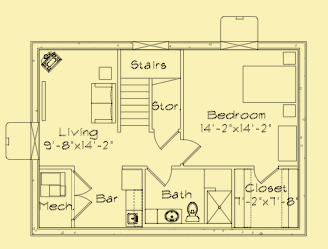bed: (239, 50, 297, 121)
door: (69, 168, 95, 222), (152, 127, 183, 152), (250, 161, 283, 184), (143, 163, 172, 189), (178, 135, 203, 165)
large sink: (183, 199, 202, 223)
large sofa: (88, 80, 117, 126)
small sink: (154, 206, 182, 225)
stairs: (116, 73, 183, 136)
windows: (130, 37, 171, 52), (216, 39, 262, 52), (28, 120, 42, 162)
